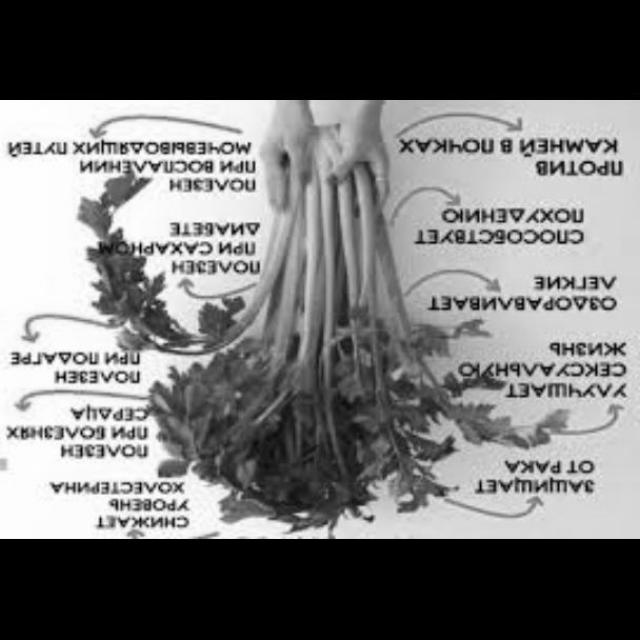can tay: (143, 127, 489, 536), (73, 161, 188, 359), (372, 376, 575, 454)
